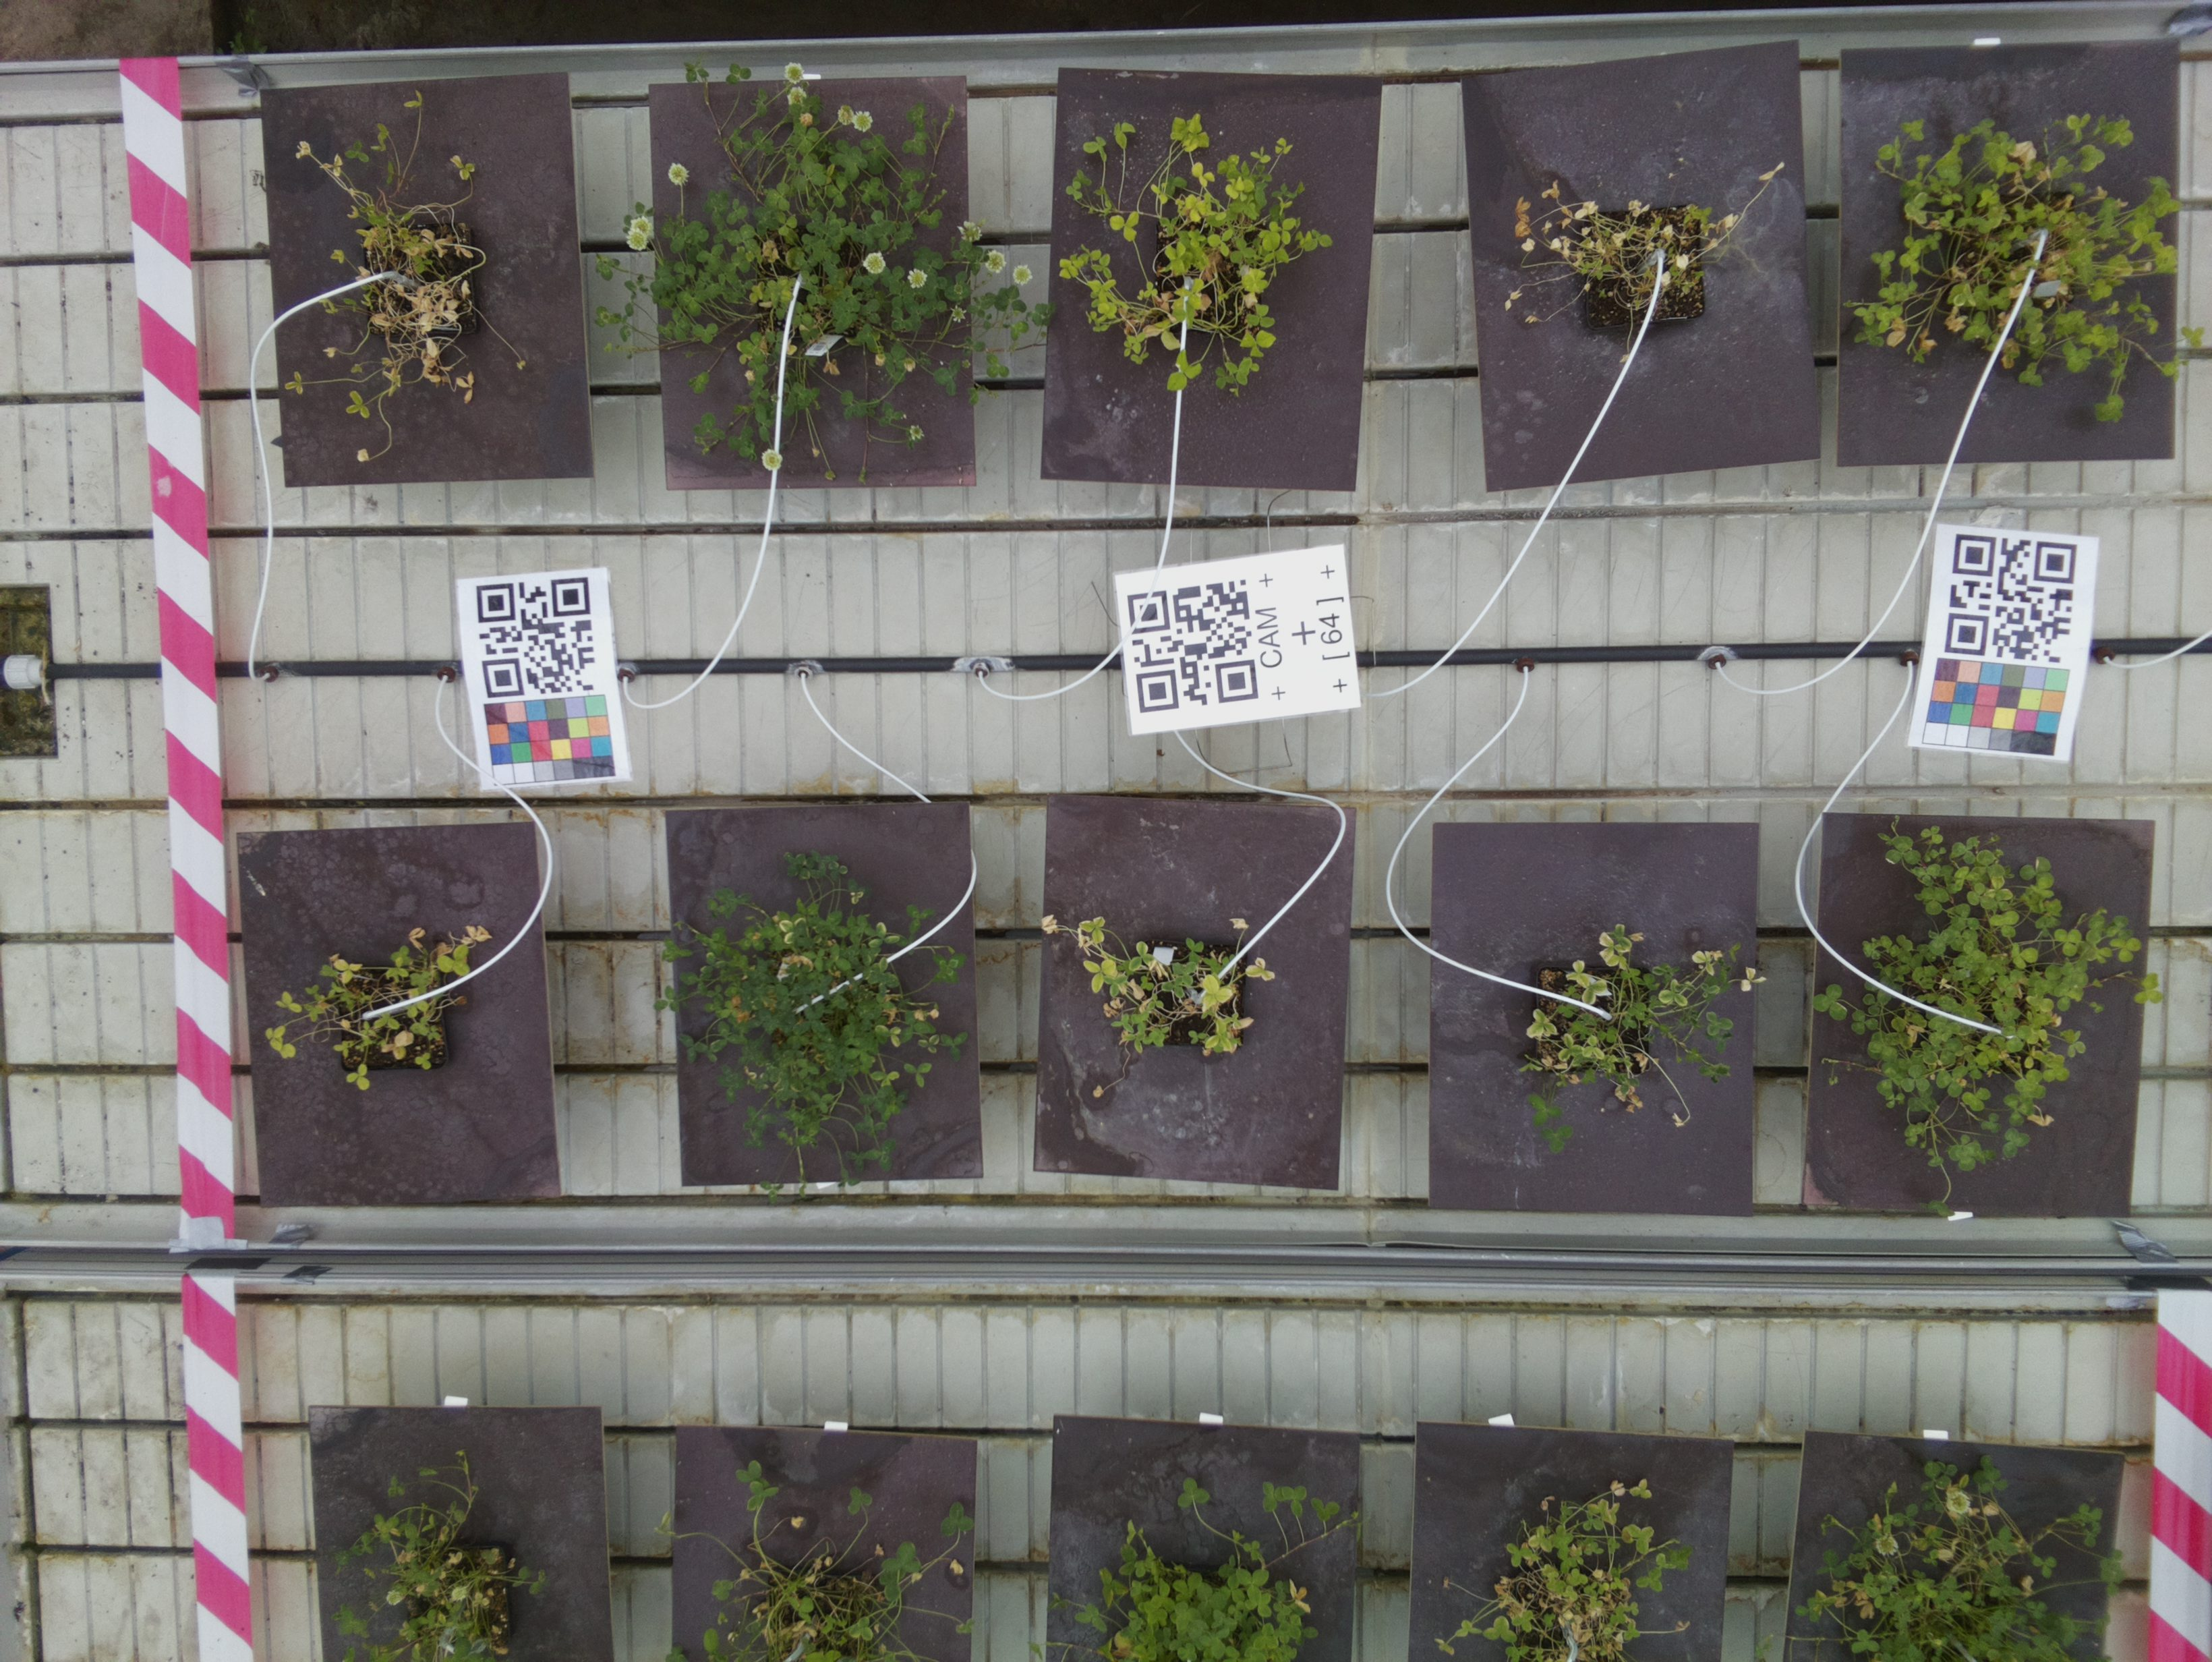POT: (1835, 54, 2170, 461), (649, 84, 974, 491), (1465, 82, 1803, 471), (262, 86, 594, 477), (1056, 73, 1358, 491), (1430, 826, 1746, 1213), (1826, 819, 2132, 1215), (669, 821, 978, 1180), (250, 841, 553, 1196), (1049, 819, 1336, 1184)
QRCODE: (1109, 543, 1370, 738)
QRCOLOR: (1908, 525, 2102, 763), (454, 573, 639, 786)
